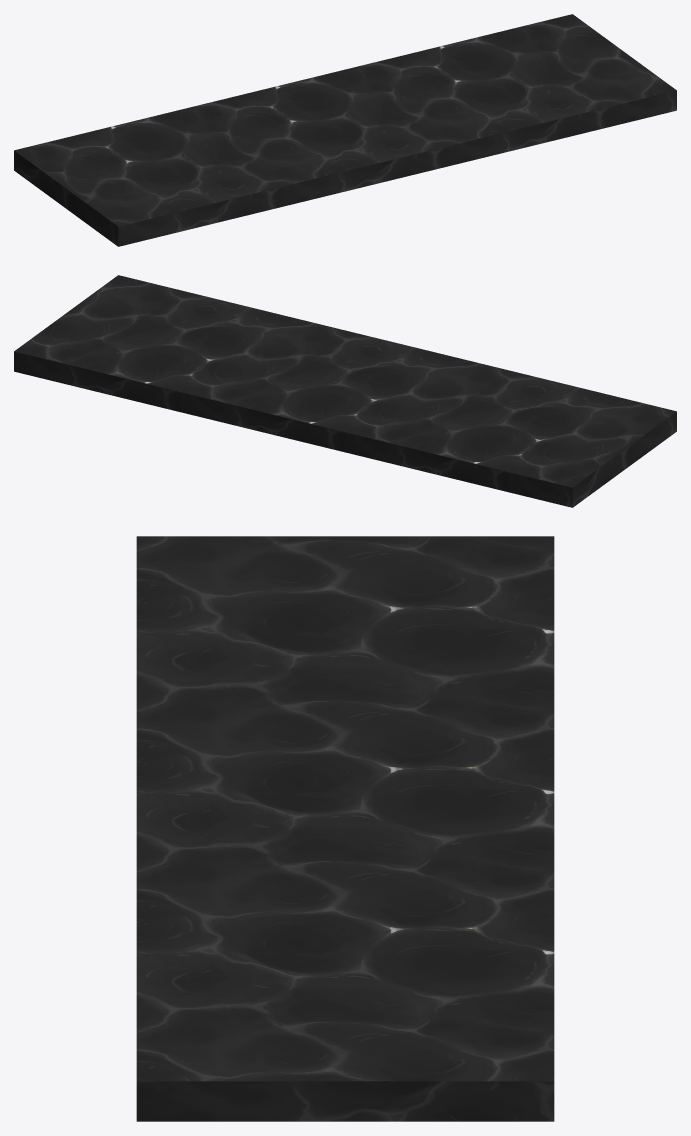
File: Charco.FBX
3 renders of one model, top to bottom at view 1: azimuth 30°, elevation 25°; view 2: azimuth 150°, elevation 25°; view 3: azimuth 270°, elevation 25°, orthographic. The views are drawn at different scales.
Visible parts, largest first — view 1: Box001; view 2: Box001; view 3: Box001.
Boxes of the visible parts, bbox=[...] form: Box001: bbox=[14, 14, 676, 246]; Box001: bbox=[14, 275, 676, 507]; Box001: bbox=[136, 536, 554, 1121].
Size of the model in its own units: 469 by 16.18 by 152.
1 material, 1 textured.
